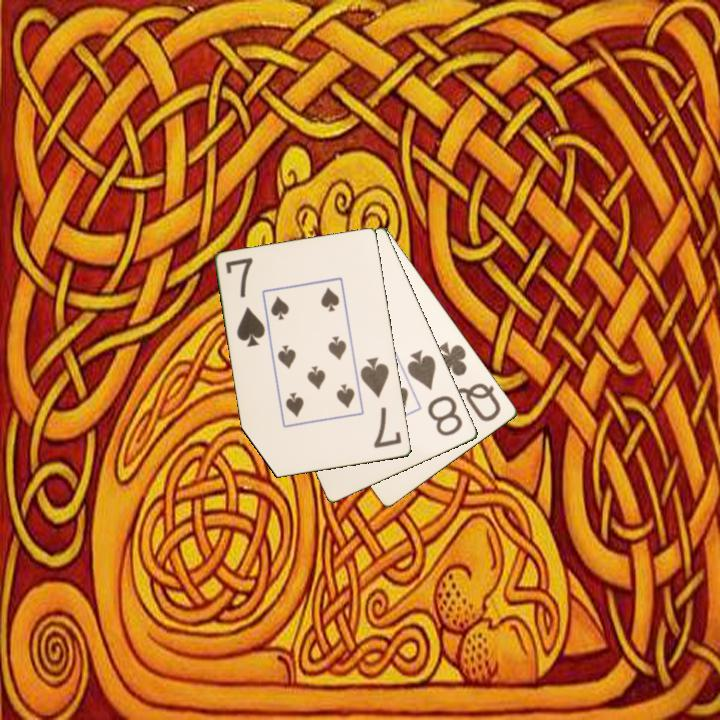7s: (357, 354, 405, 451), (222, 254, 268, 350)
8s: (404, 346, 466, 439)
Qc: (433, 338, 504, 425)
